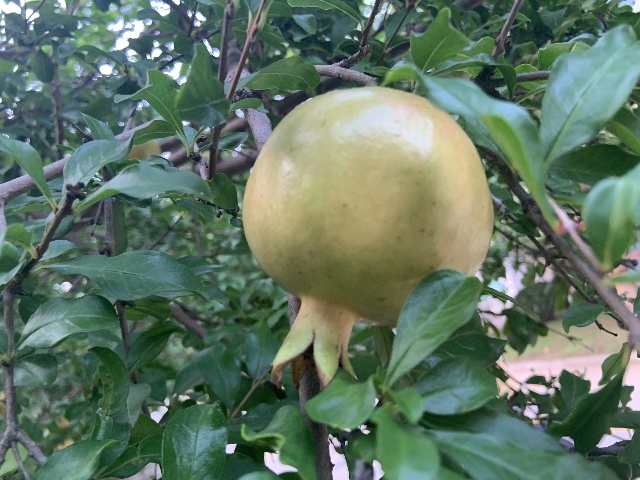mid-growth: (240, 85, 492, 387)
